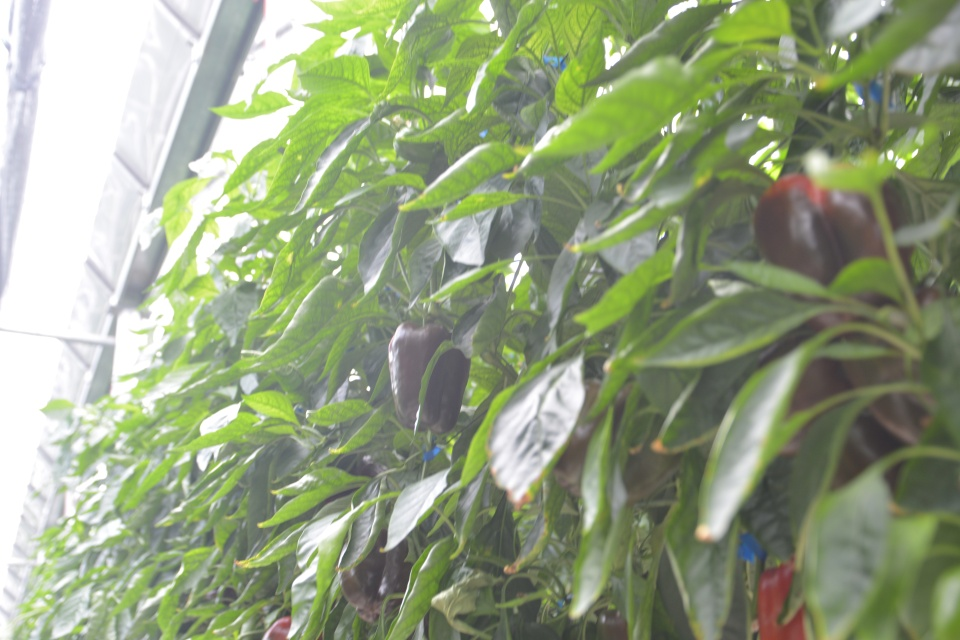fruit: (752, 169, 914, 331), (554, 374, 685, 505), (386, 318, 472, 435), (339, 525, 414, 624), (755, 559, 810, 640)
